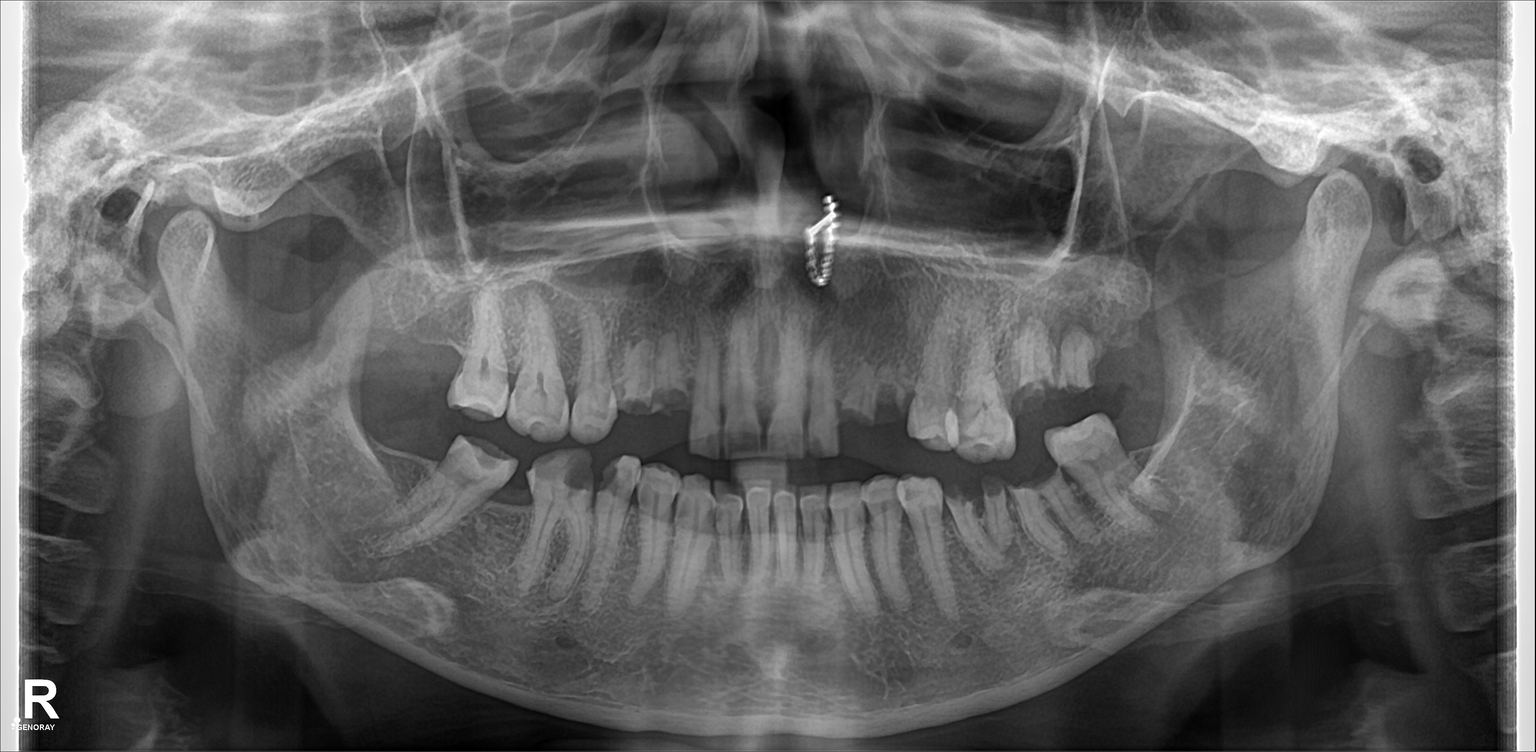Dental Caries: (562, 462, 627, 493), (1013, 462, 1065, 492), (656, 374, 687, 416)
Missing Tooth: (410, 298, 457, 419), (1108, 285, 1165, 383), (367, 300, 405, 413), (1129, 395, 1175, 480), (380, 428, 431, 500), (507, 477, 530, 556)
Retained Root: (603, 329, 651, 425), (648, 322, 691, 429), (1060, 309, 1099, 402), (872, 341, 909, 436), (1013, 324, 1052, 411), (840, 344, 870, 445), (981, 477, 1015, 565), (948, 478, 979, 570)
